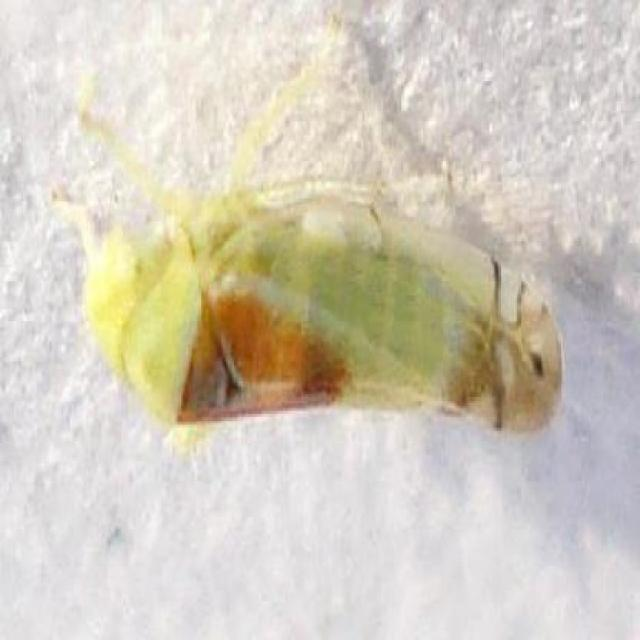green-leafhopper: (110, 162, 562, 426)
